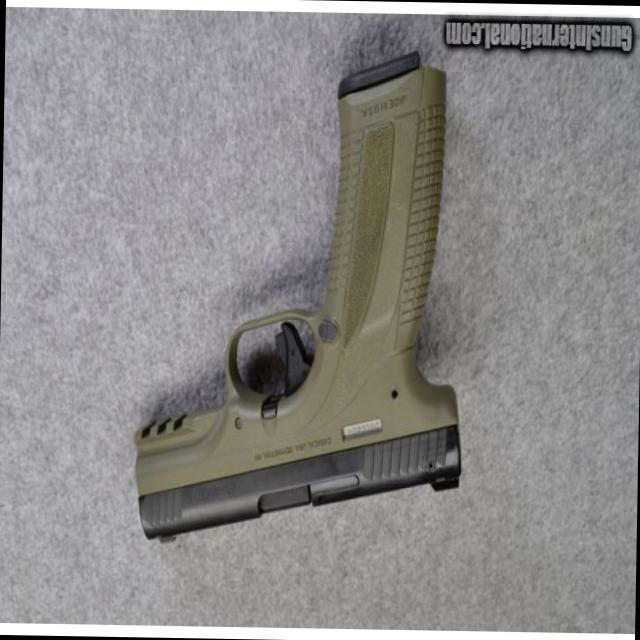Gun: (95, 46, 515, 563)
